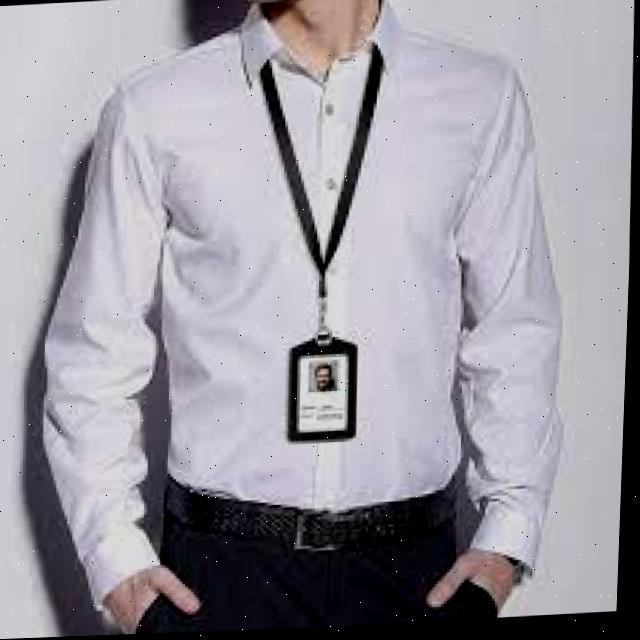id_card: (234, 34, 408, 453)
